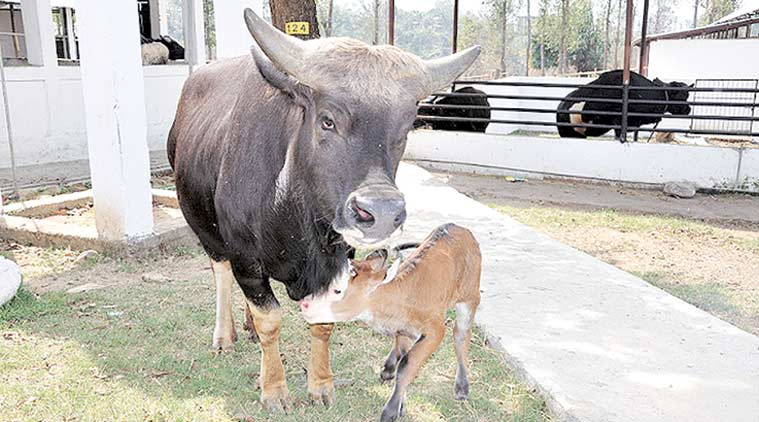bison: (160, 2, 474, 421)
